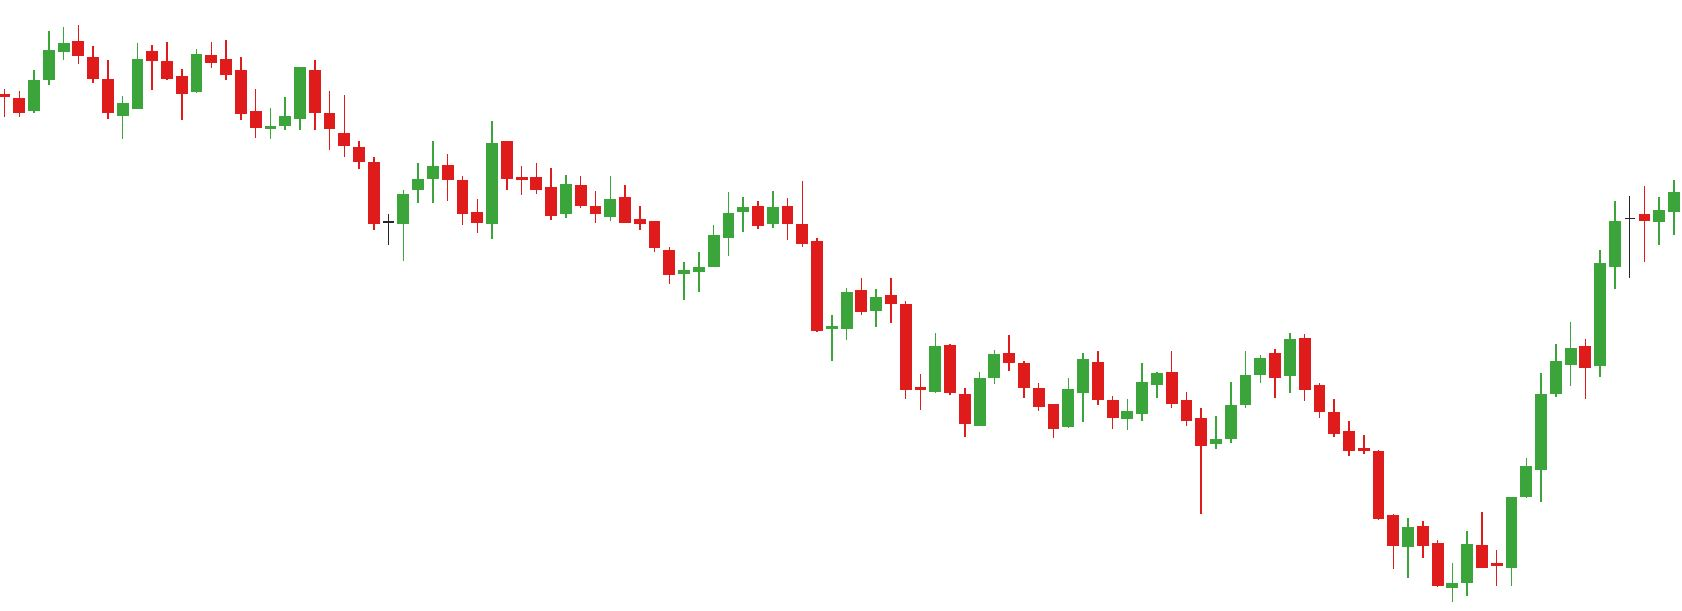buy: (1047, 379, 1221, 520), (11, 48, 130, 148)
sell: (425, 117, 515, 211)
